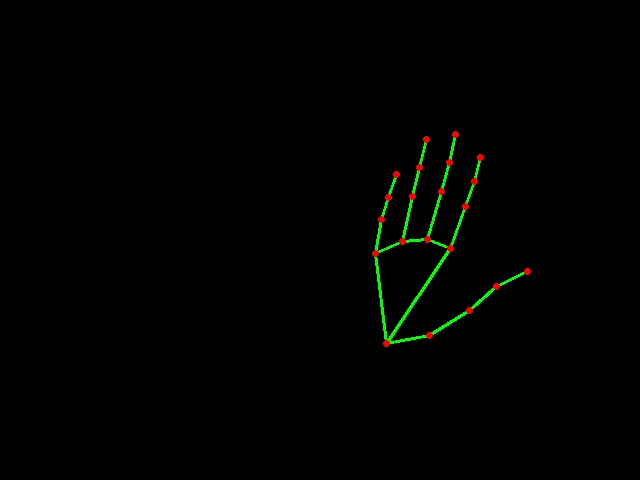stop: (362, 124, 537, 359)
